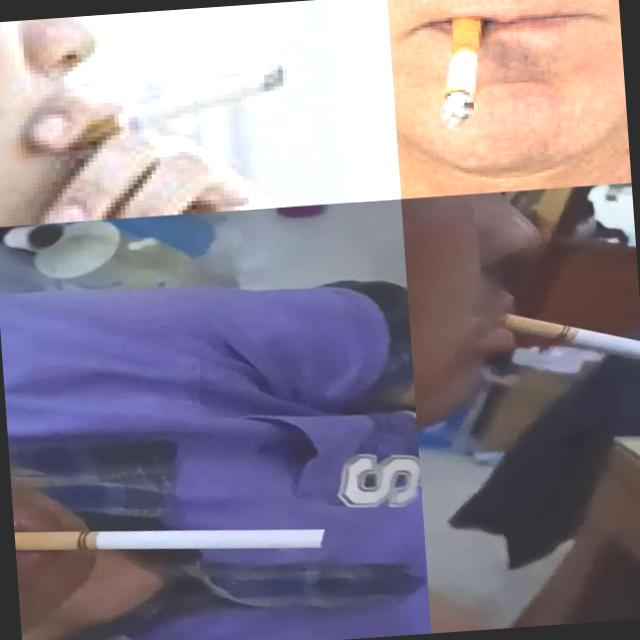cigarette: (51, 64, 291, 154), (14, 511, 332, 570), (497, 305, 640, 400), (436, 8, 490, 128)
